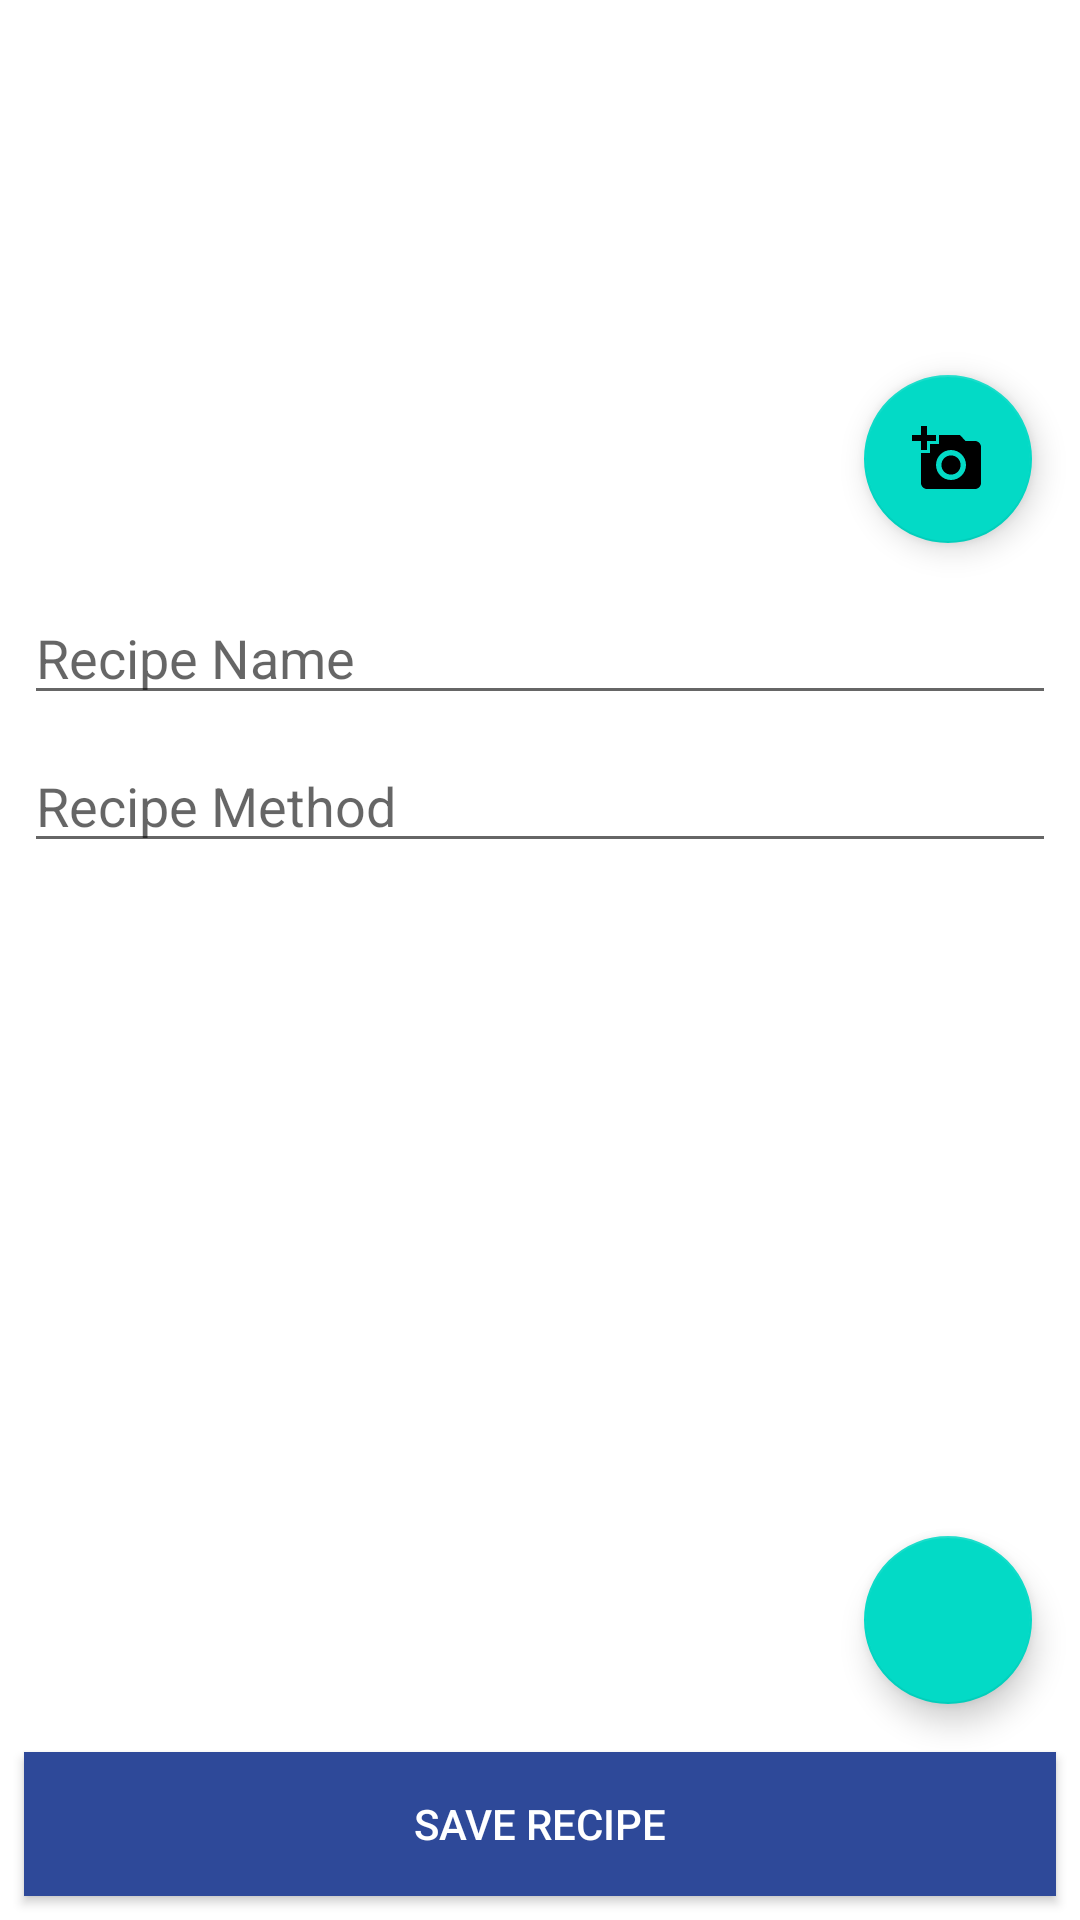

Icons on this 1080×1920 Android screen, each with the point to tap as (x,y):
photo: (948,459)
